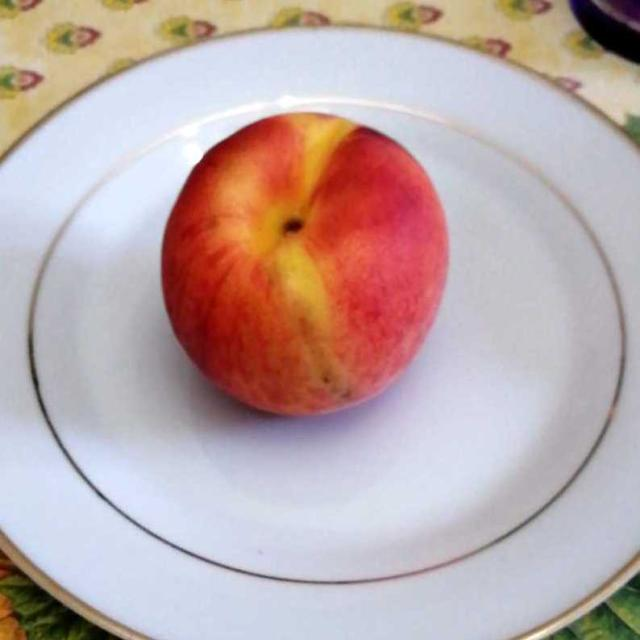peach: (164, 114, 444, 414)
